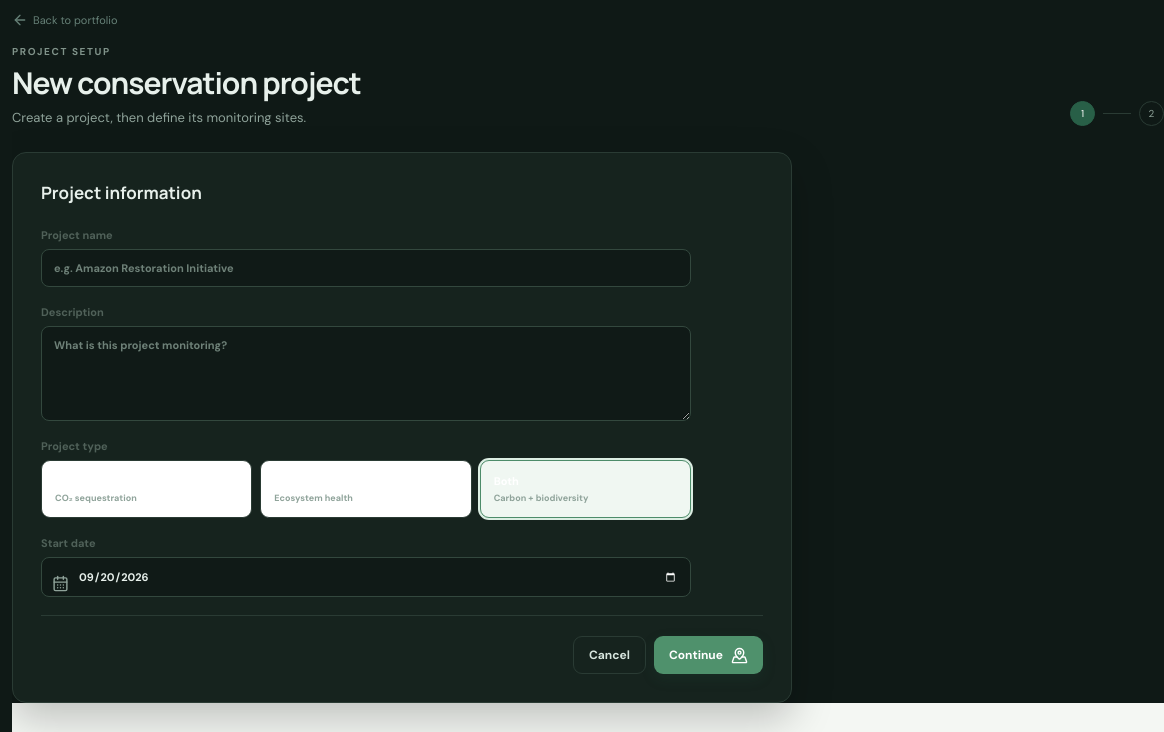
CreateProject — Story 1 › surfaces a backend failure instead of silently advancing
Step 1. Type "Amazon Restoration" into the field with placeholder "e.g. Amazon Restoration Initiative" → (366, 268), box [41,249,691,287]
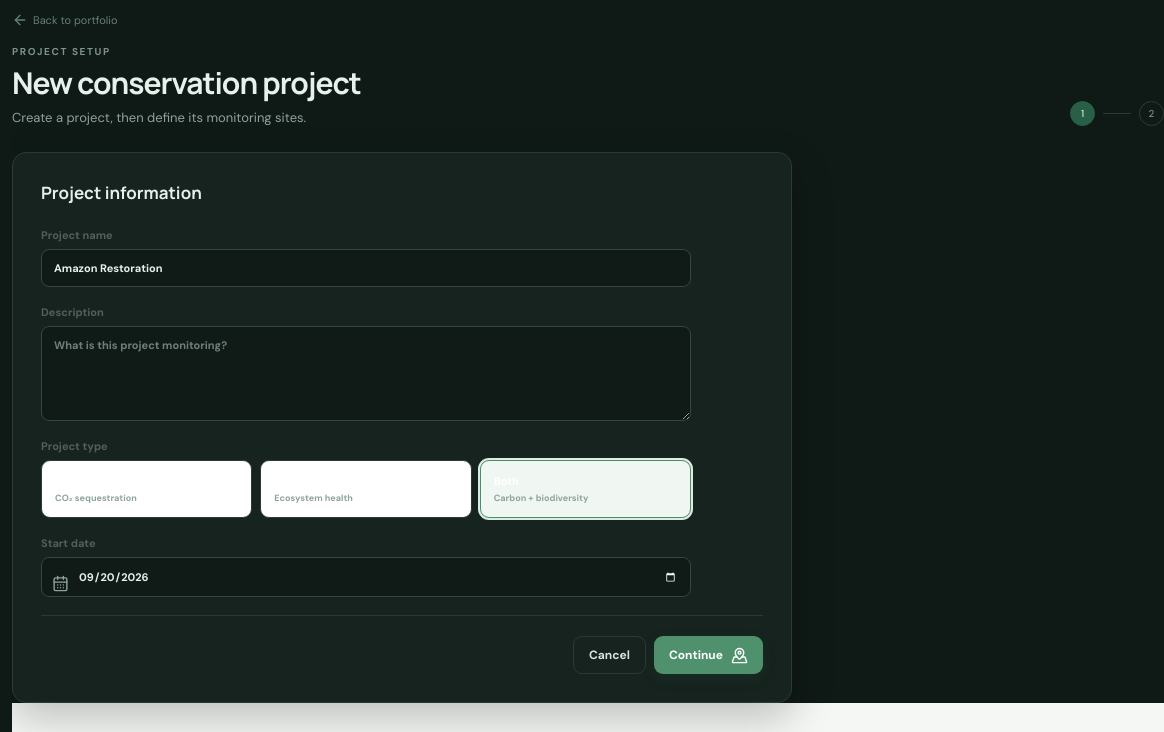
Step 2. Click the button "Continue" → (708, 655), box [654,636,763,674]
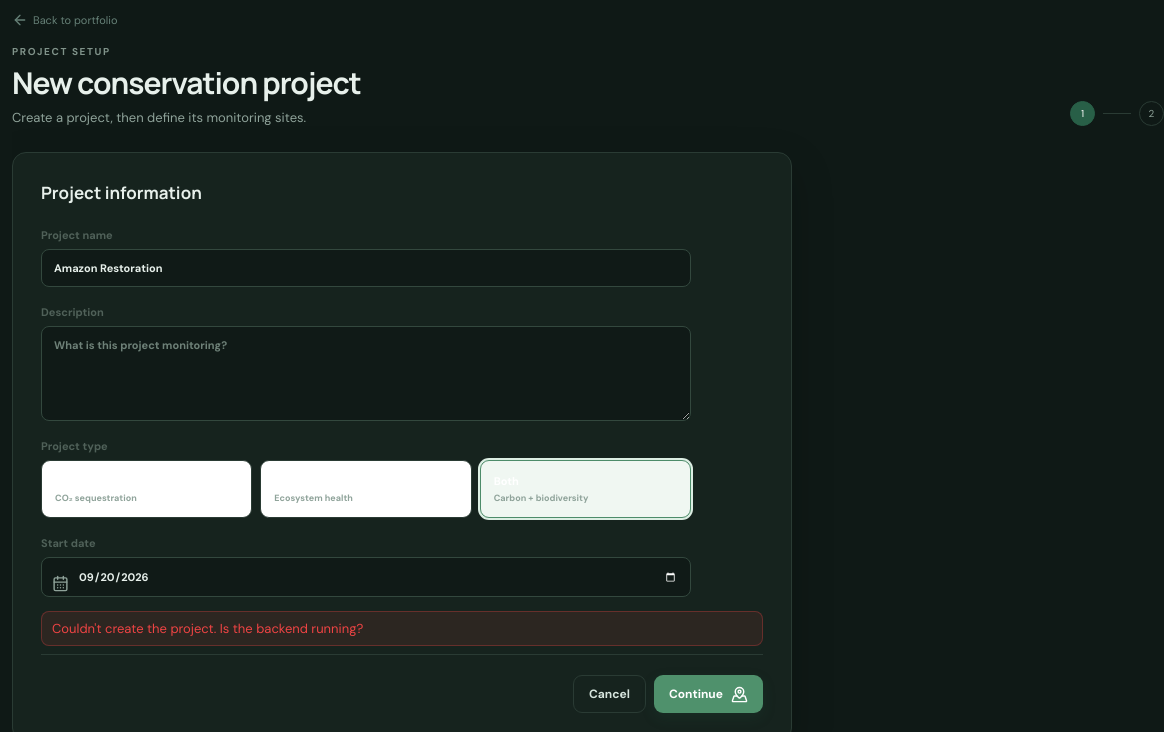
Check: the text "Couldn't create the project. Is the backend running?" is shown, box [41,611,763,646]
